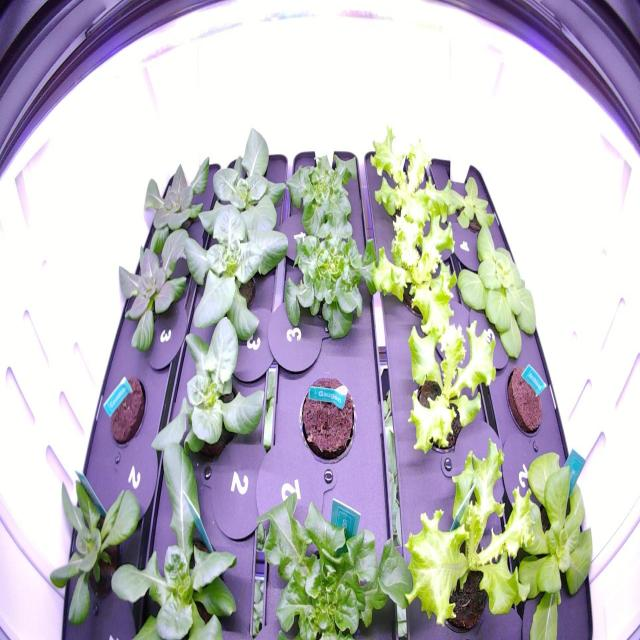pod: (294, 369, 360, 468), (500, 360, 556, 441), (102, 369, 152, 450)
young: (102, 419, 245, 640), (491, 435, 608, 639), (146, 309, 279, 476), (37, 452, 150, 640), (176, 187, 296, 360), (196, 113, 297, 261), (450, 218, 544, 367), (111, 223, 207, 366), (136, 146, 218, 268), (436, 163, 506, 244)
